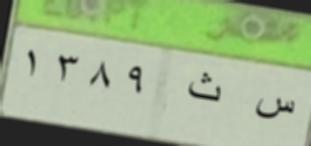1: (22, 45, 50, 87)
3: (52, 50, 80, 87)
8: (88, 60, 116, 98)
9: (124, 60, 150, 98)
seen: (247, 92, 300, 128)
thaa: (184, 69, 223, 108)
